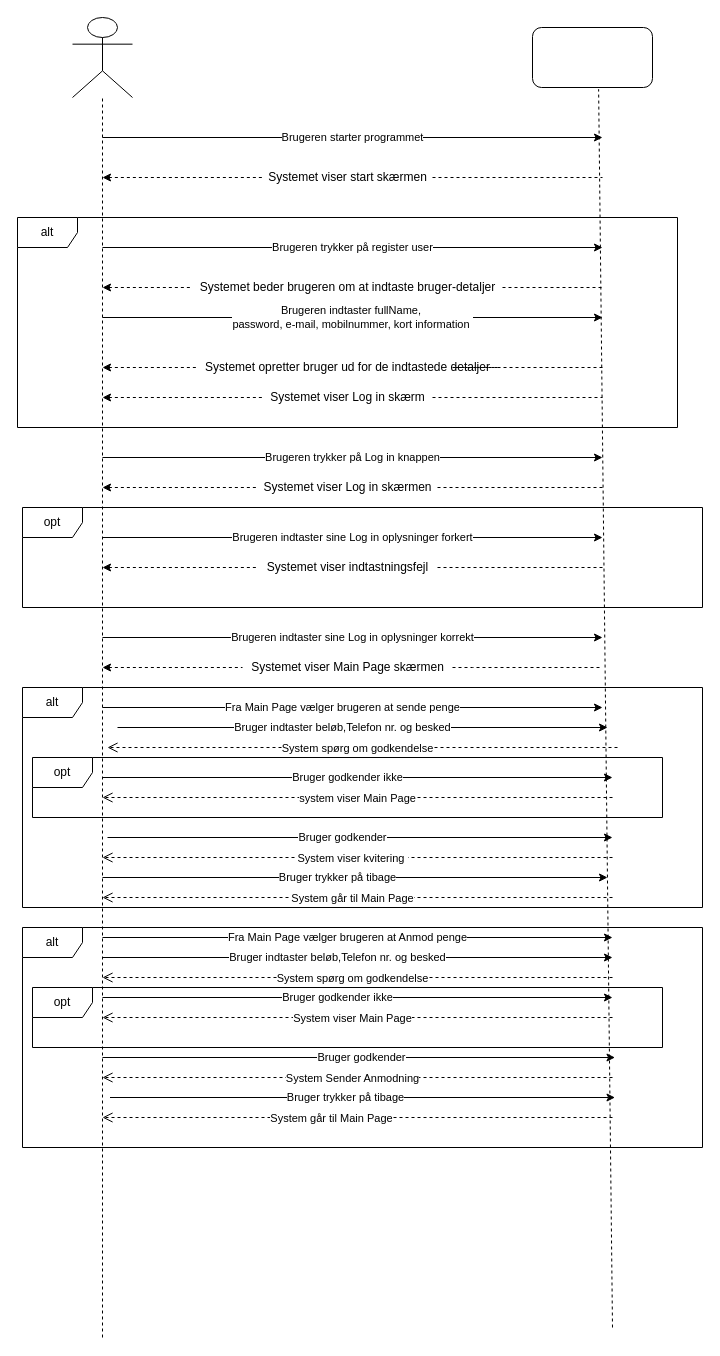
This 720x1356 diagram has some shape labels left out. The centre of each missing label's shape, as x and y in pixels:
"Actor" goes at [102,57].
"MobilePay Application" goes at [592,57].
